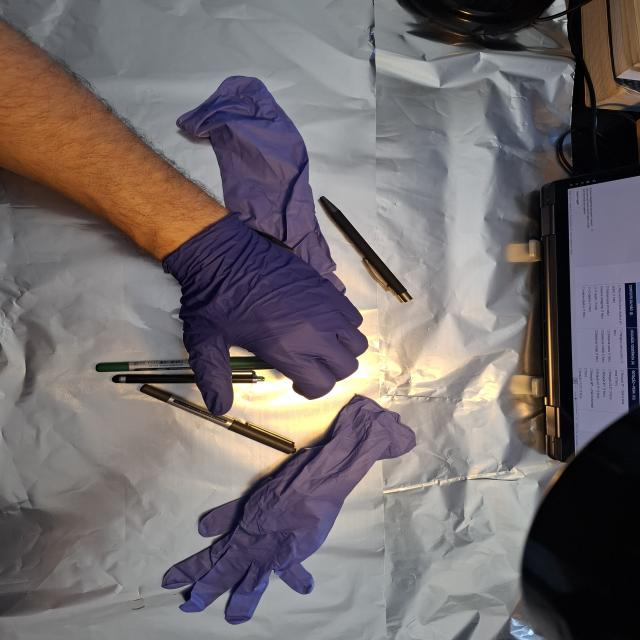glove_on: (174, 212, 371, 419)
